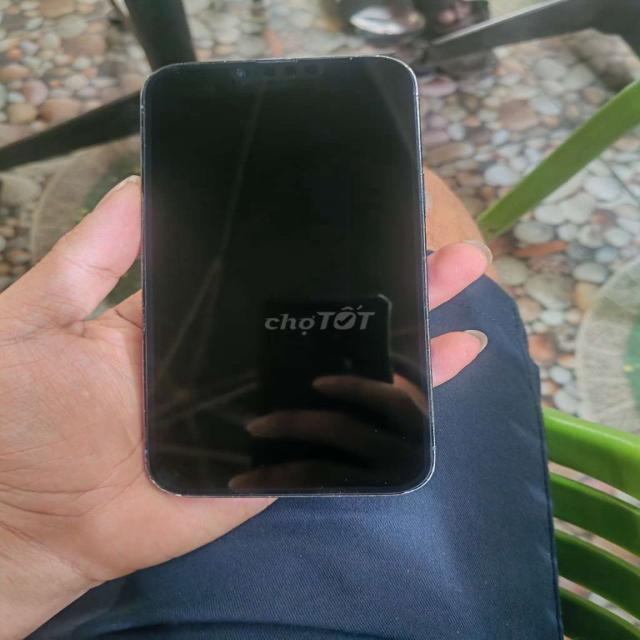gen_12_13: (141, 56, 433, 496)
scratch: (384, 55, 463, 512), (122, 444, 468, 512)
